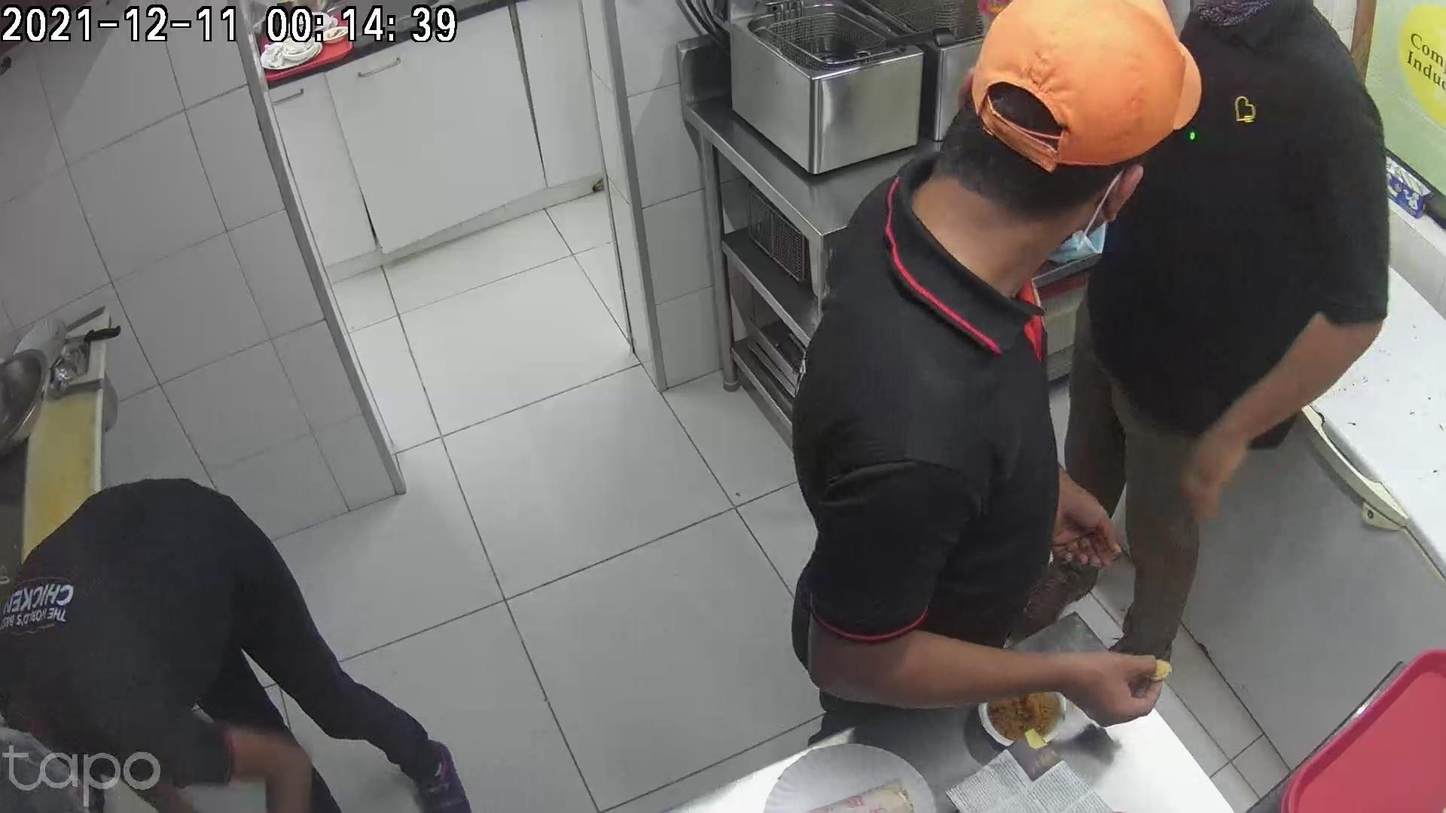no_gloves: (285, 582, 406, 678)
